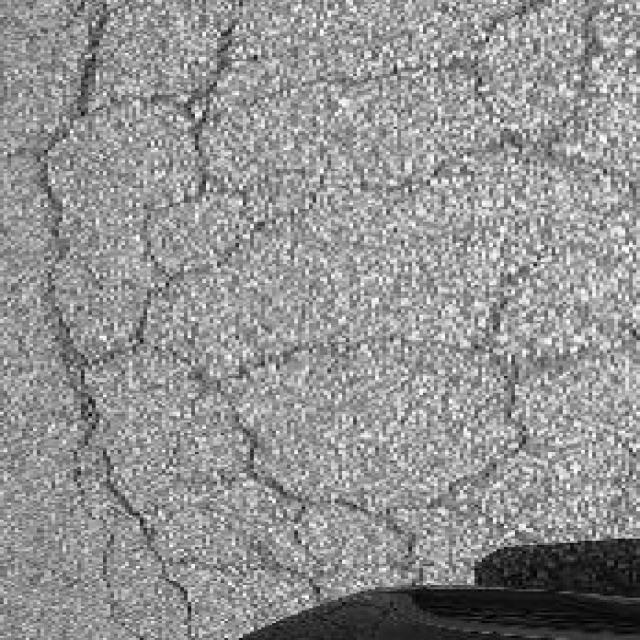PIEL DE COCODRILO: (29, 0, 639, 639)
